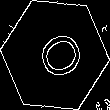O_SW: (25, 25, 85, 85)
